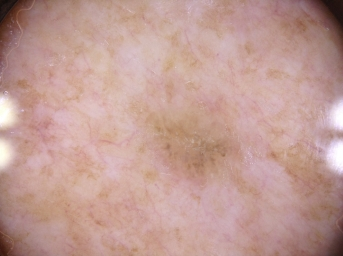seborrheic keratosis: (131, 92, 269, 202)
